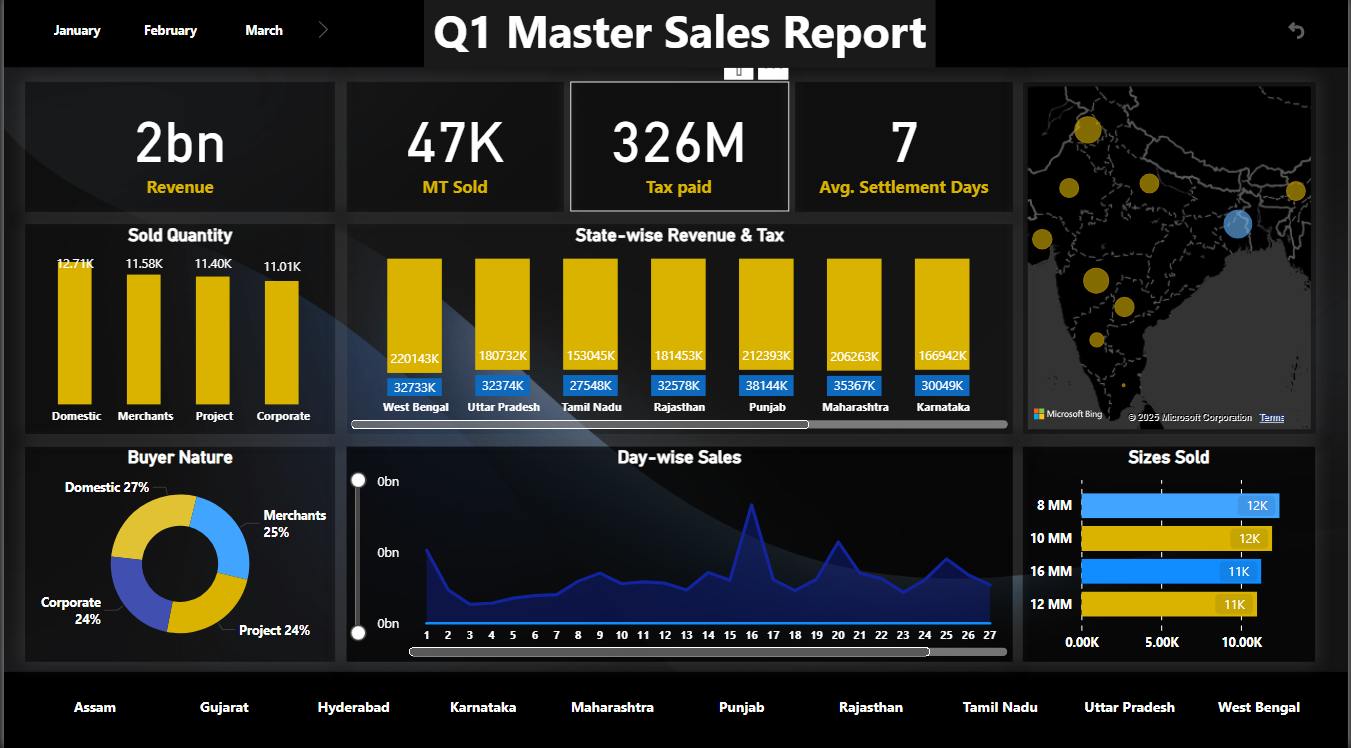

What the dashboard file says about the page in this screenshot:
{"tool":"powerbi","page":{"name":"Page 1","canvas":[1280,720],"ordinal":0},"visuals":[{"type":"shape","box":[0,0,1280,70],"z":0},{"type":"shape","box":[0,645.2,1279.8,75],"z":1000},{"type":"clusteredBarChart","title":"Sizes Sold","fields":{"Category":["Sheet2.Material Size"],"Y":["Sum(Sheet2.Quantity)"]},"box":[970.2,431,278.6,204.8],"z":2000},{"type":"map","fields":{"Category":["Sheet2.States"],"Size":["Divide(Sum(Sheet2.Sales), ScopedEval(Sum(Sheet2.Sales), []))"]},"box":[970,83.3,279.2,335.8],"z":3000},{"type":"slicer","fields":{"Values":["Sheet2.States"]},"box":[0,653.6,1279.8,50],"z":4000},{"type":"donutChart","title":"Buyer Nature","fields":{"Category":["Sheet2.Buyer Nature"],"Y":["Sum(Sheet2.Sales)"]},"box":[20.2,431,295.2,204.8],"z":5000},{"type":"stackedAreaChart","title":"Day-wise Sales","fields":{"Y":["Sum(Sheet2.Quantity)","Sum(Sheet2.Sales)"],"Category":["Sheet2.Document Dt.Variation.Date Hierarchy.Day"]},"box":[326.2,431,634.5,204.8],"z":6000},{"type":"slicer","fields":{"Values":["Sheet2.Document Dt.Variation.Date Hierarchy.Month"]},"box":[0,6.2,315,56.2],"z":7000},{"type":"clusteredColumnChart","title":"Sold Quantity","fields":{"Category":["Sheet2.Buyer Nature"],"Y":["Sum(Sheet2.Quantity)"]},"box":[20.2,219,295.2,200],"z":8000},{"type":"card","fields":{"Values":["Sum(Sheet2.Sales)"]},"box":[20.2,83.3,295.2,123.8],"z":9000},{"type":"card","fields":{"Values":["Sum(Sheet2.Quantity)"]},"box":[326.2,83.3,207.1,123.8],"z":10000},{"type":"card","fields":{"Values":["Sum(Sheet2.GST)"]},"box":[539.9,83.3,207.1,123.8],"z":11000},{"type":"card","fields":{"Values":["Avg(Sheet2.Settlement period)"]},"box":[753.6,83.3,207.1,123.8],"z":12000},{"type":"textbox","box":[400,0,487.5,70],"z":13000},{"type":"hundredPercentStackedColumnChart","title":"State-wise Revenue & Tax","fields":{"Category":["Sheet2.States"],"Y":["Sum(Sheet2.GST)","Sum(Sheet2.Sales)"]},"box":[326.2,218.8,635,200],"z":14000},{"type":"actionButton","box":[1210.7,14.3,46.4,40.5],"z":15000}]}

Visuals, with their boxes in screenshot pixels (x1, y1, x2, y2), scaled from the page's 1280x720 canvas onto the 1351x748 screenshot:
shape: rect(0, 0, 1350, 73)
shape: rect(0, 670, 1350, 747)
"Sizes Sold" clusteredBarChart: rect(1024, 448, 1318, 661)
map - Sheet2.States x Divide(Sum(Sheet2.Sales), ScopedEval(Sum(Sheet2.Sales), [])): rect(1024, 87, 1318, 435)
slicer - Sheet2.States: rect(0, 679, 1350, 731)
"Buyer Nature" donutChart: rect(21, 448, 333, 661)
"Day-wise Sales" stackedAreaChart: rect(344, 448, 1014, 661)
slicer - Sheet2.Document Dt.Variation.Date Hierarchy.Month: rect(0, 6, 332, 65)
"Sold Quantity" clusteredColumnChart: rect(21, 228, 333, 435)
card - Sum(Sheet2.Sales): rect(21, 87, 333, 215)
card - Sum(Sheet2.Quantity): rect(344, 87, 563, 215)
card - Sum(Sheet2.GST): rect(570, 87, 788, 215)
card - Avg(Sheet2.Settlement period): rect(795, 87, 1014, 215)
textbox: rect(422, 0, 937, 73)
"State-wise Revenue & Tax" hundredPercentStackedColumnChart: rect(344, 227, 1015, 435)
actionButton: rect(1278, 15, 1327, 57)
